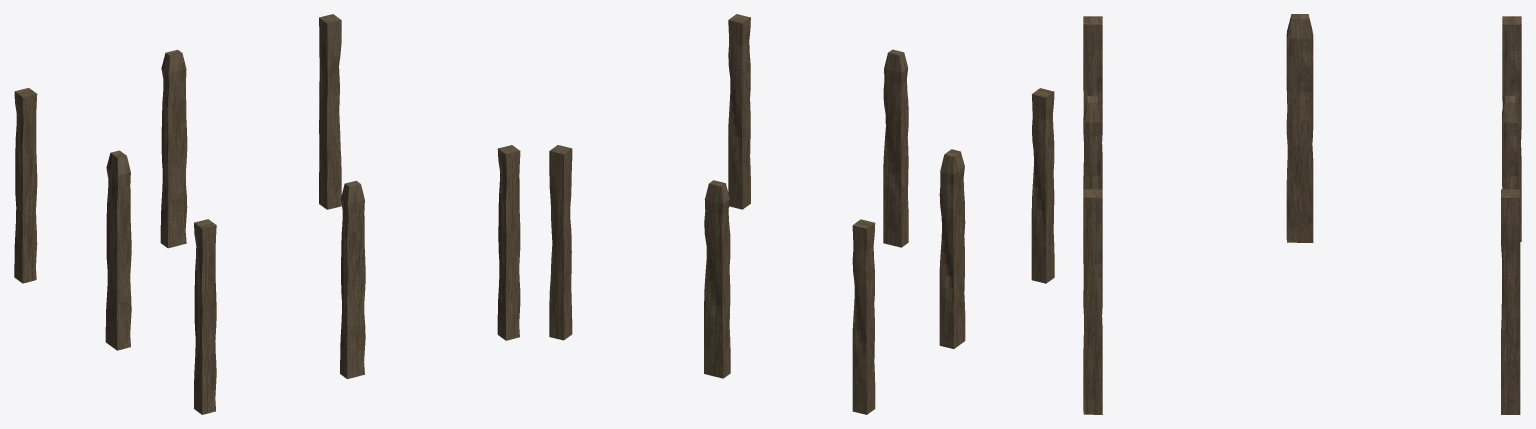
File: storagebarn_stage1.fbx
3 renders of one model, left to right at view 1: azimuth 30°, elevation 25°; view 2: azimuth 150°, elevation 25°; view 3: azimuth 270°, elevation 25°, orthographic. The views are drawn at different scales.
Visible parts, largest first — view 1: Foundation; view 2: Foundation; view 3: Foundation.
Boxes of the visible parts, bbox=[...] form: Foundation: bbox=[14, 14, 520, 414]; Foundation: bbox=[549, 14, 1054, 414]; Foundation: bbox=[1083, 14, 1521, 414].
Bounding box in the file's own units: 534 × 305 × 545.
Materials: 1 (1 with a texture image).
